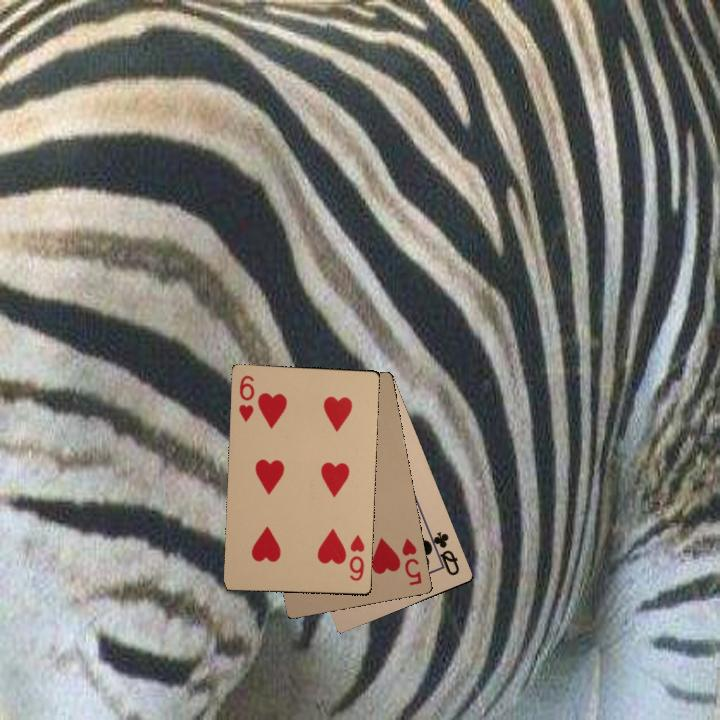5h: (398, 534, 424, 588)
6h: (234, 371, 257, 424), (345, 532, 367, 584)
Qc: (425, 528, 462, 578)
